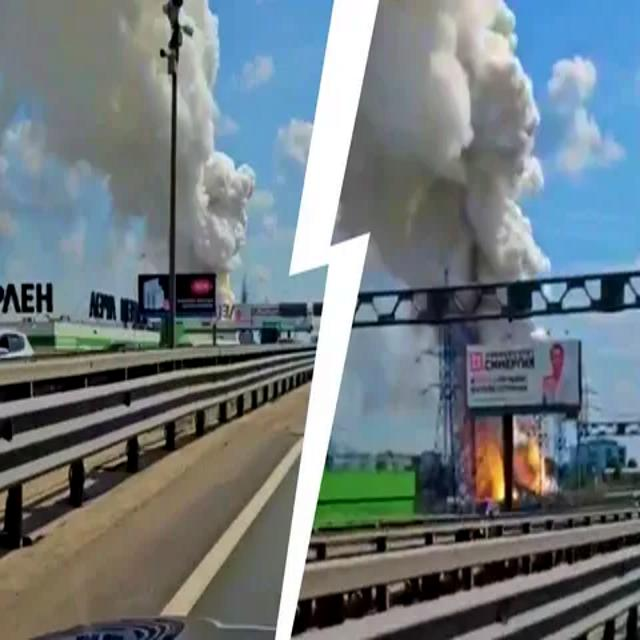no_helmet: (1, 2, 257, 303), (360, 0, 566, 285)
